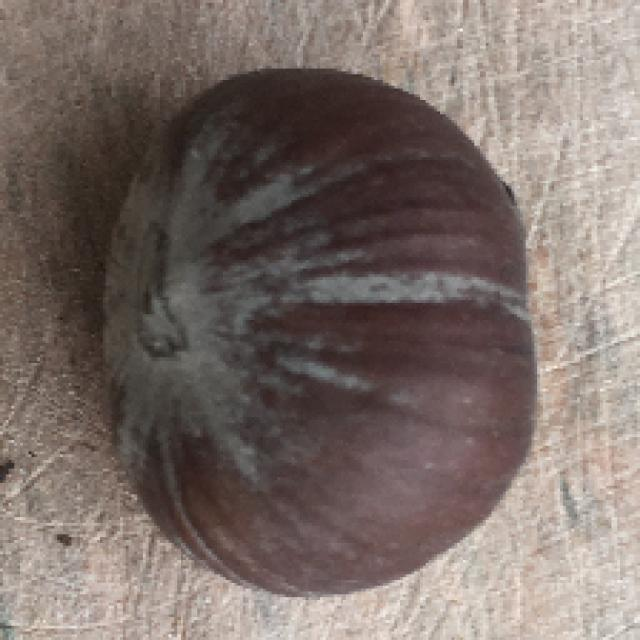damagedHazelnut: (92, 71, 537, 603)
